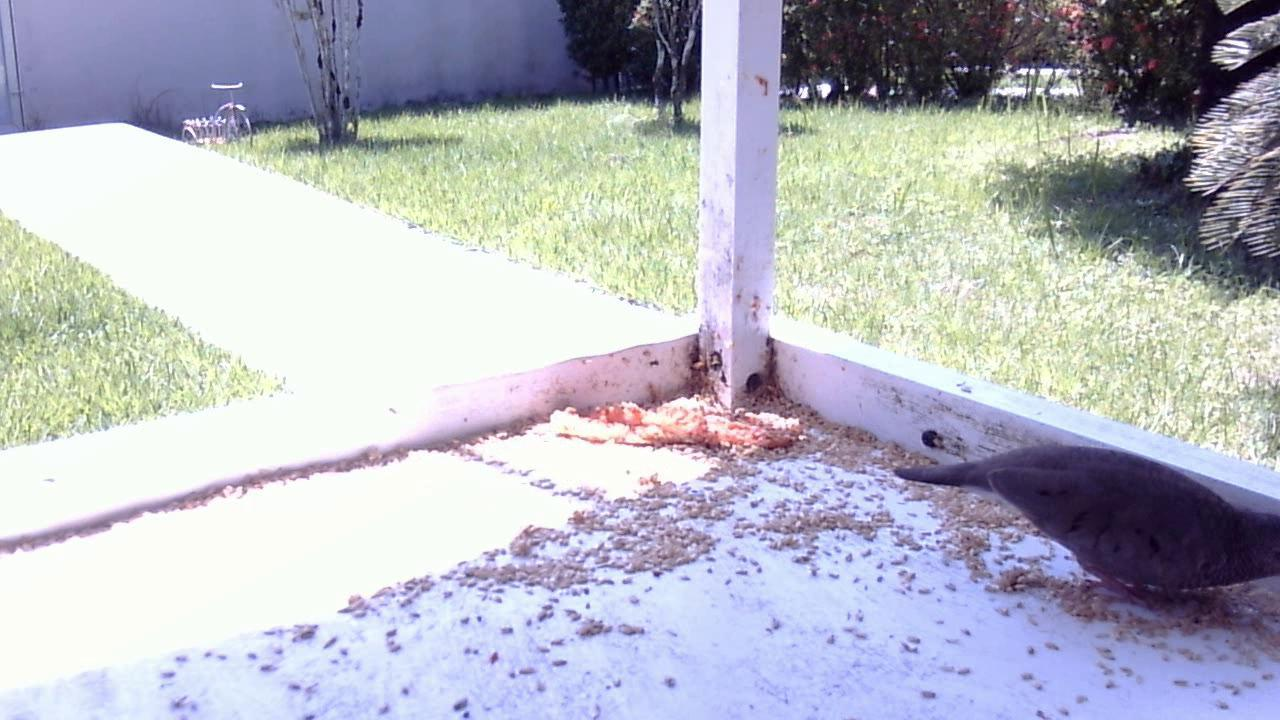rolinha: (878, 420, 1270, 623)
